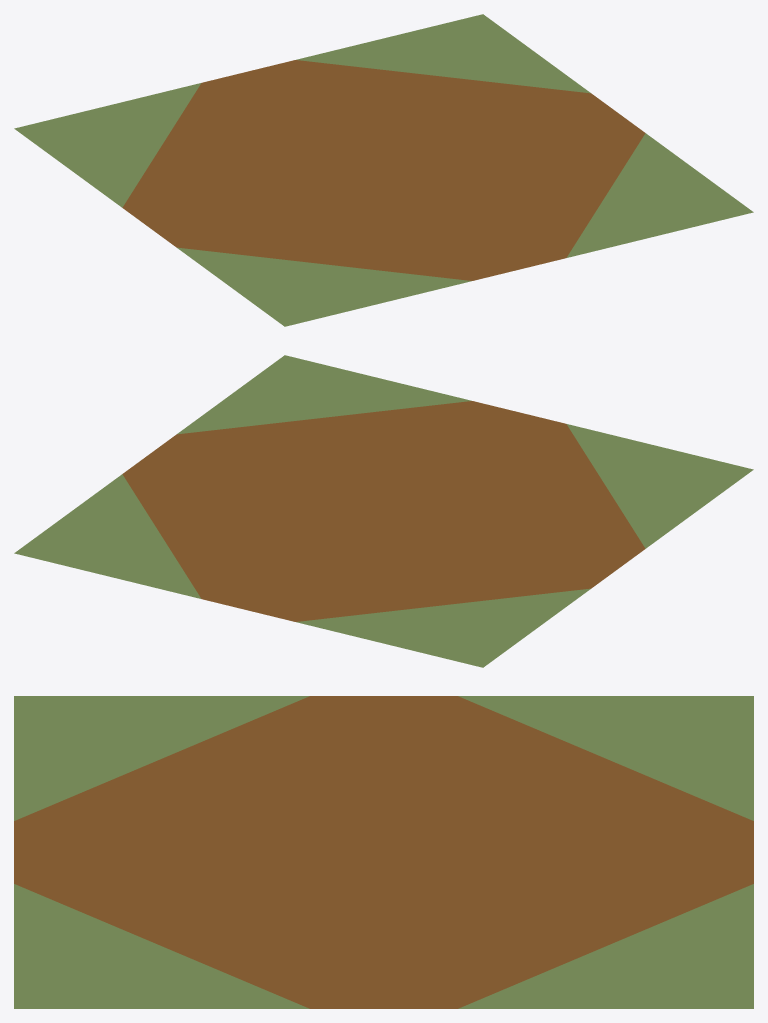
The model's file is SA_Env_Dirt_Corner_02.fbx.
The picture shows the model from 3 angles, top to bottom: view 1: azimuth 30°, elevation 25°; view 2: azimuth 150°, elevation 25°; view 3: azimuth 270°, elevation 25°; orthographic projection. The views are drawn at different scales.
Parts seen in each view (by area): view 1: SA_Env_Dirt_Corner_02; view 2: SA_Env_Dirt_Corner_02; view 3: SA_Env_Dirt_Corner_02.
Boxes of the visible parts, x1,y1,x2,y2 form: SA_Env_Dirt_Corner_02: (14, 14, 753, 326); SA_Env_Dirt_Corner_02: (14, 355, 753, 667); SA_Env_Dirt_Corner_02: (14, 696, 753, 1008).
Bounding box in the file's own units: 15 × 0 × 15.
Materials: 1 (1 with a texture image).
